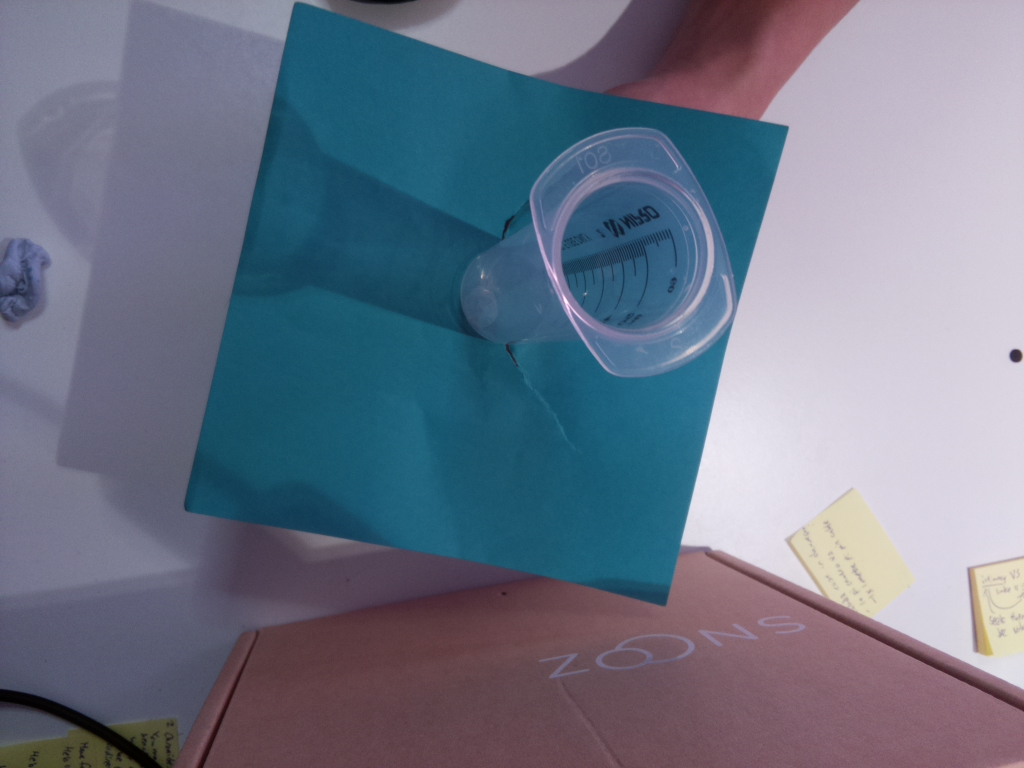clean: (528, 122, 742, 378)
